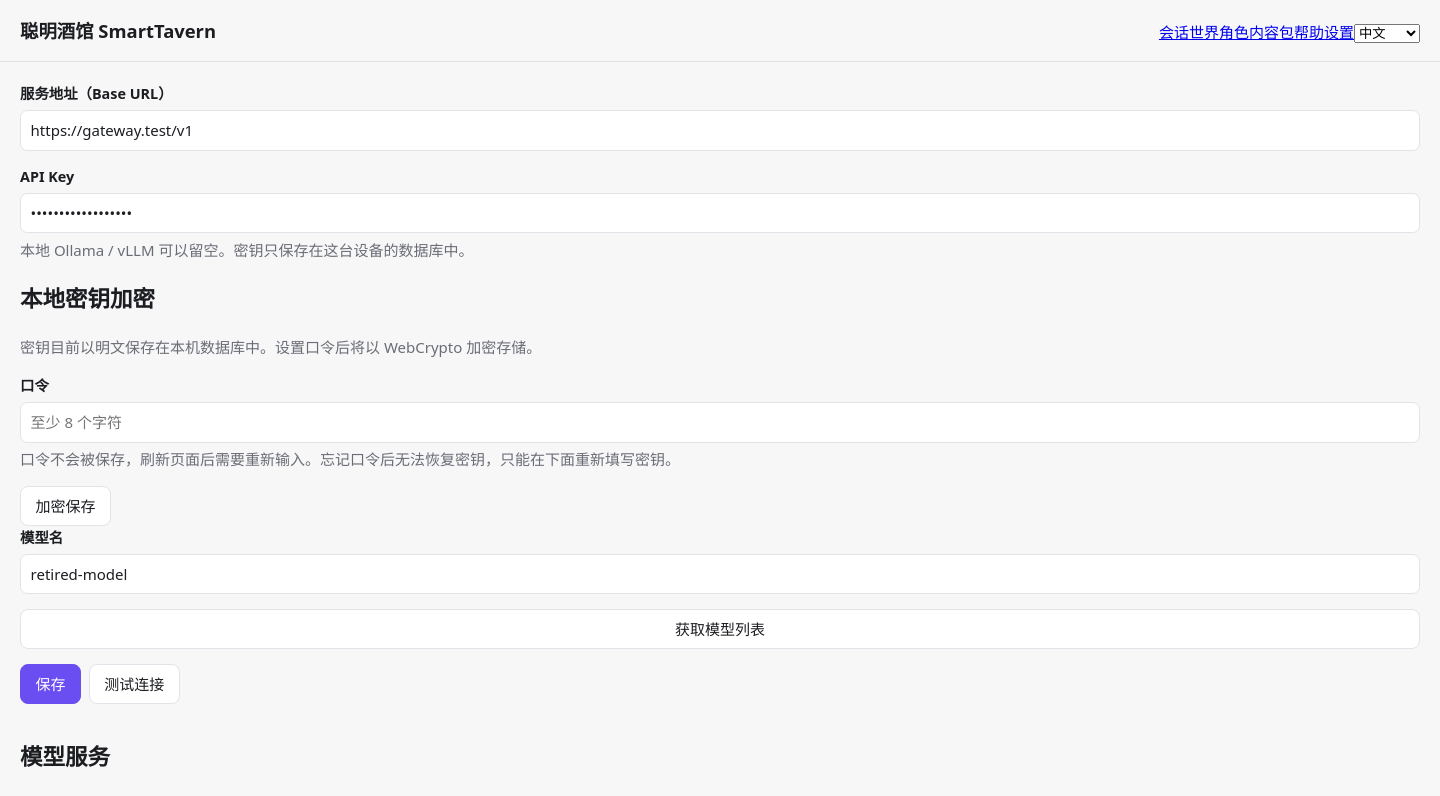
Test: M1-G3: the model list › offers the endpoint’s models, keeps the saved one, and flags that it is missing
Click the button "获取模型列表" at (720, 629), box left=20, top=609, right=1420, bottom=649
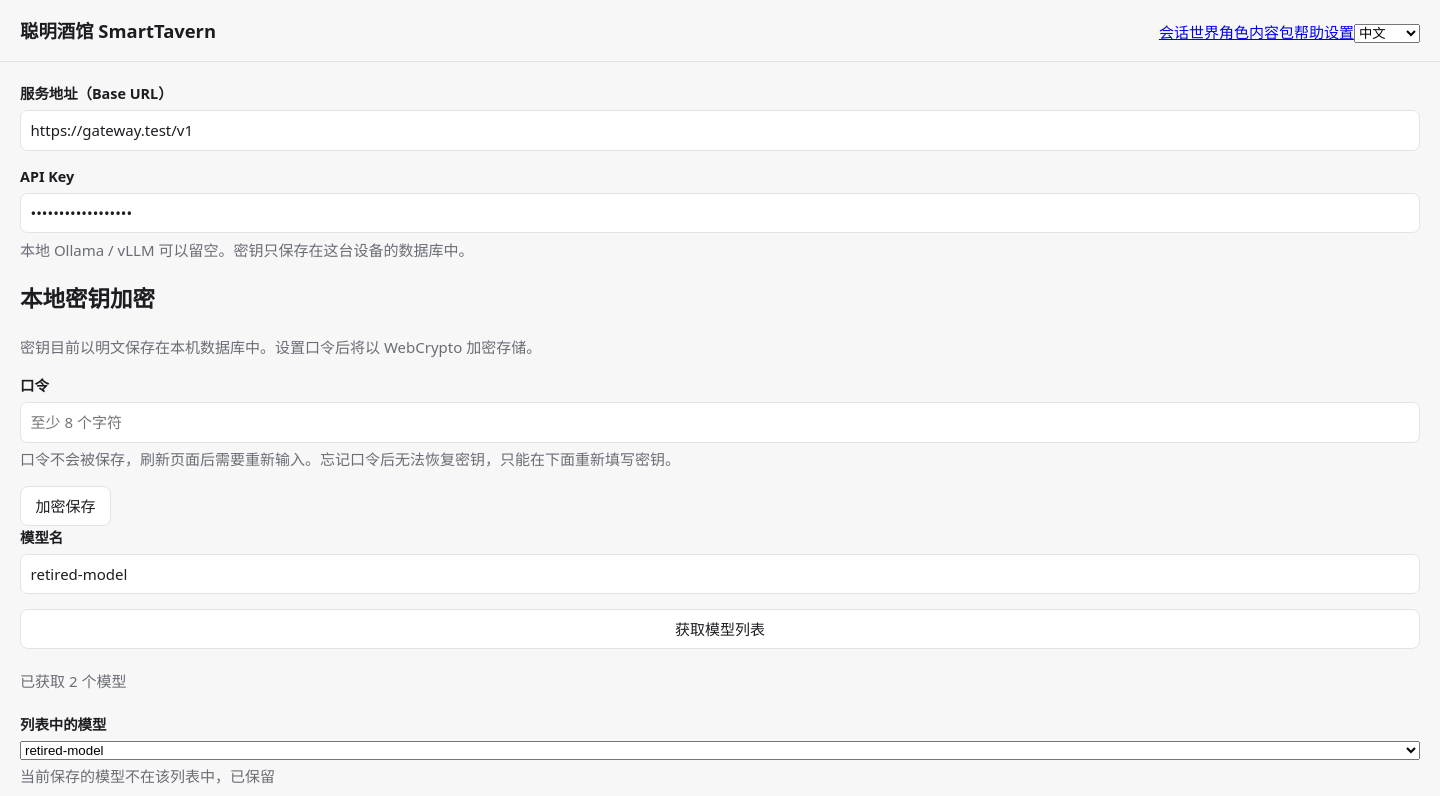
Expected: the field with id "model" holds "retired-model", left=20, top=554, right=1420, bottom=594
Result: the text "当前保存的模型不在该列表中，已保留" is shown at left=20, top=766, right=275, bottom=786
